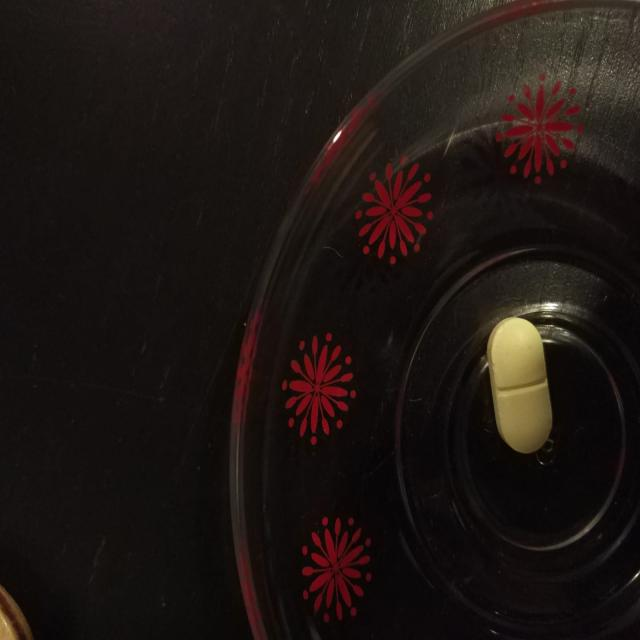pills: (470, 291, 562, 465)
